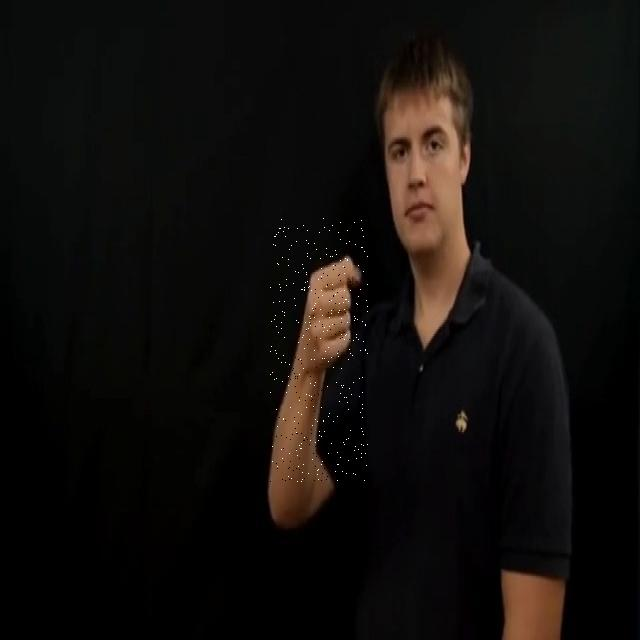milk: (270, 218, 368, 482)
